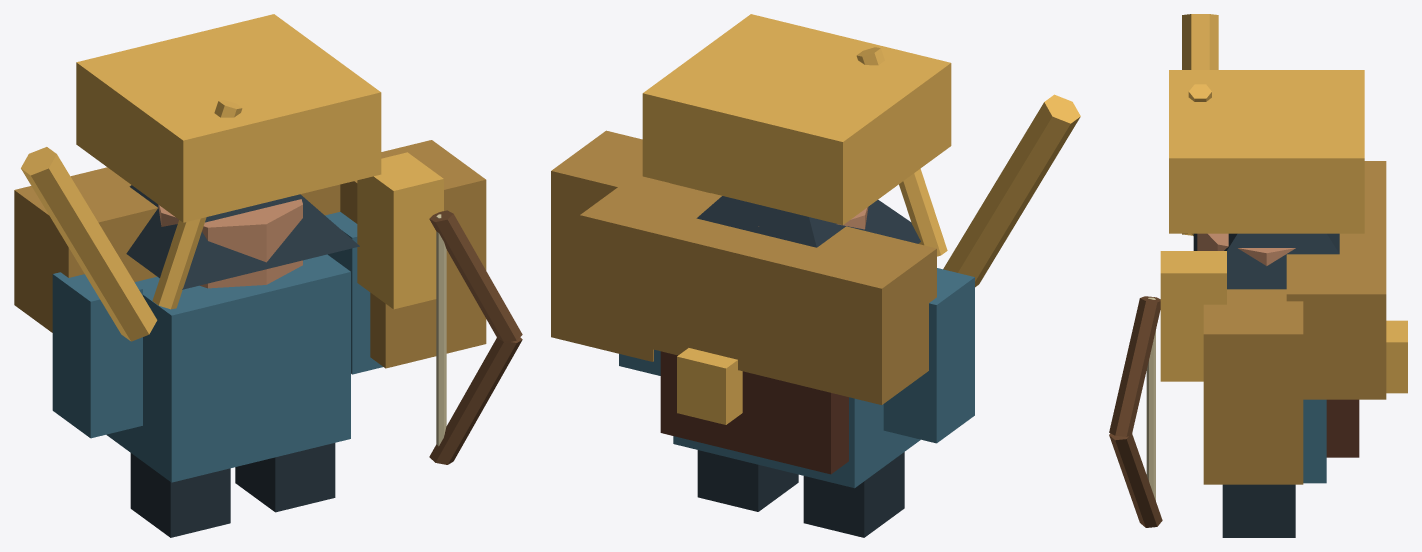
File: stone-slinger.obj
The picture shows the model from 3 angles, left to right: view 1: azimuth 30°, elevation 25°; view 2: azimuth 150°, elevation 25°; view 3: azimuth 270°, elevation 25°; orthographic projection. The views are drawn at different scales.
Parts seen in each view (by area): view 1: ranged; view 2: ranged; view 3: ranged.
Part boxes in pixels (<box>): ranged: <box>14,14,522,537</box>; ranged: <box>551,14,1080,537</box>; ranged: <box>1109,14,1407,537</box>.
Bounding box in the file's own units: 1.47 × 1.32 × 0.9001.
